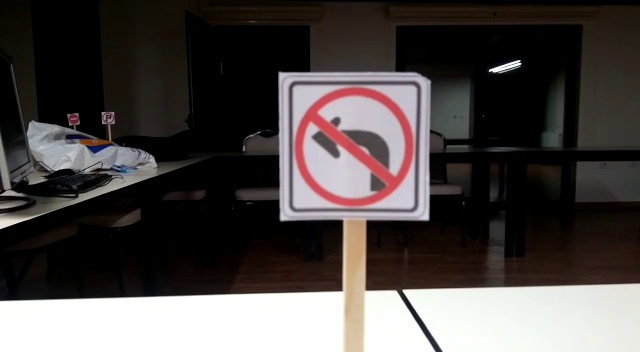sola_donulmez: (277, 80, 418, 217)
